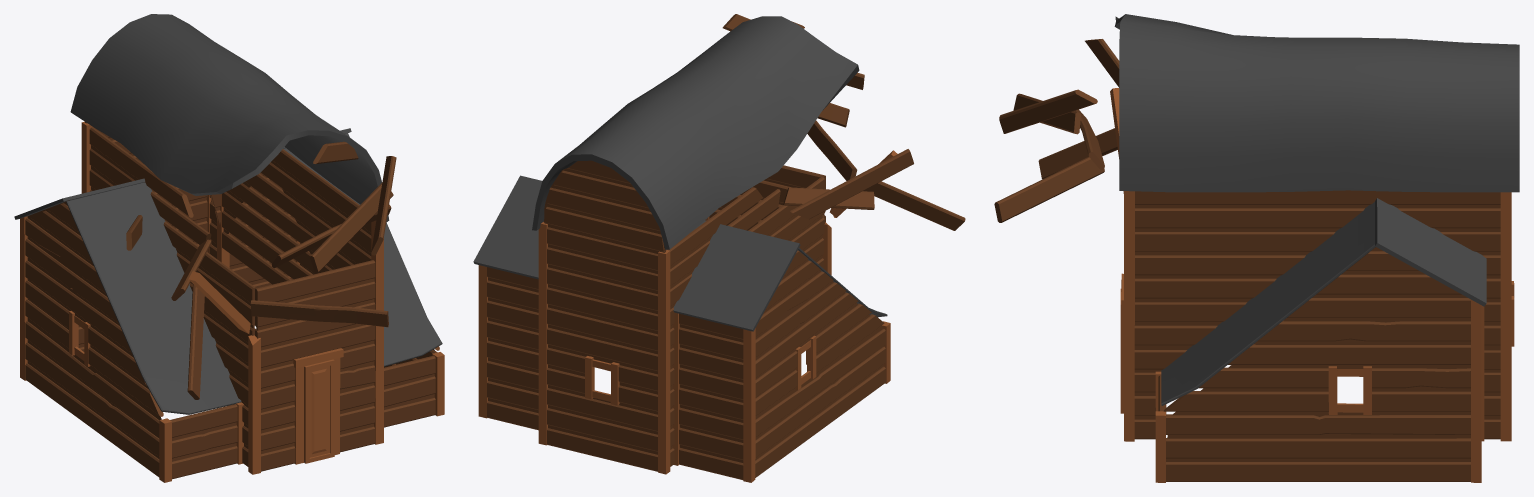
File: Roundhouse-M00A.fbx
The picture shows the model from 3 angles, left to right: view 1: azimuth 30°, elevation 25°; view 2: azimuth 150°, elevation 25°; view 3: azimuth 270°, elevation 25°; orthographic projection. The views are drawn at different scales.
Visible parts, largest first — view 1: dESTOYRED; view 2: dESTOYRED; view 3: dESTOYRED.
Boxes of the visible parts, x1,y1,x2,y2 form: dESTOYRED: (14,14,444,482); dESTOYRED: (473,14,965,482); dESTOYRED: (994,14,1519,482).
Size of the model in its own units: 469 by 474 by 599.
